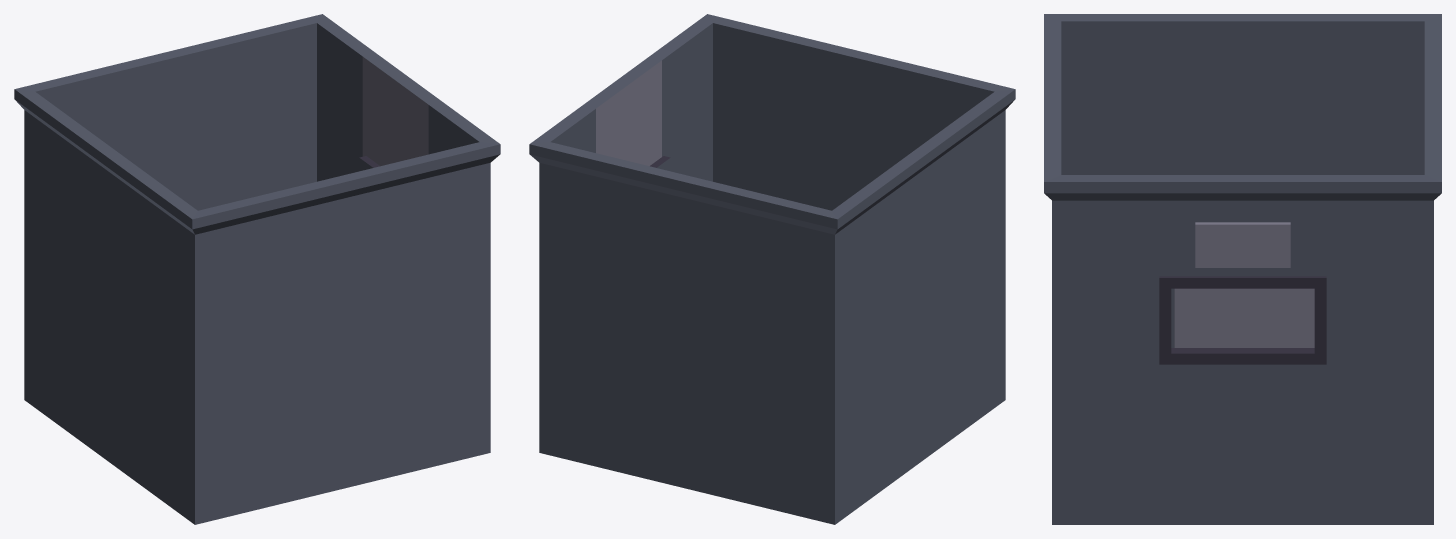
Rendered from Archivador1.fbx.
3 views of the same model, side by side, from view 1: azimuth 30°, elevation 25°; view 2: azimuth 150°, elevation 25°; view 3: azimuth 270°, elevation 25° (orthographic). The views are drawn at different scales.
Parts seen in each view (by area): view 1: Archivador1; view 2: Archivador1; view 3: Archivador1.
Part boxes in pixels (x1,y1,x2,y2): Archivador1: (14,14,500,524); Archivador1: (529,14,1015,524); Archivador1: (1044,14,1441,524).
Bounding box in the file's own units: 119 × 114 × 119.
